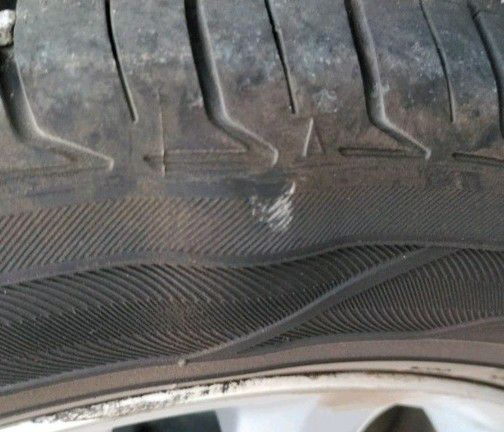CBU: (153, 147, 338, 349)
